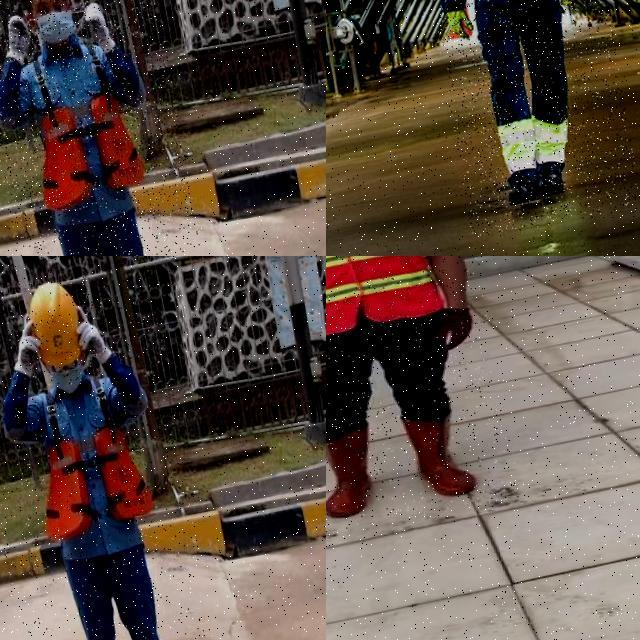boots: (402, 411, 477, 503), (326, 428, 385, 519), (534, 164, 570, 200), (504, 170, 538, 206)
helmet: (26, 279, 86, 367)
vest: (19, 44, 148, 222), (29, 422, 159, 544), (326, 256, 444, 341)
